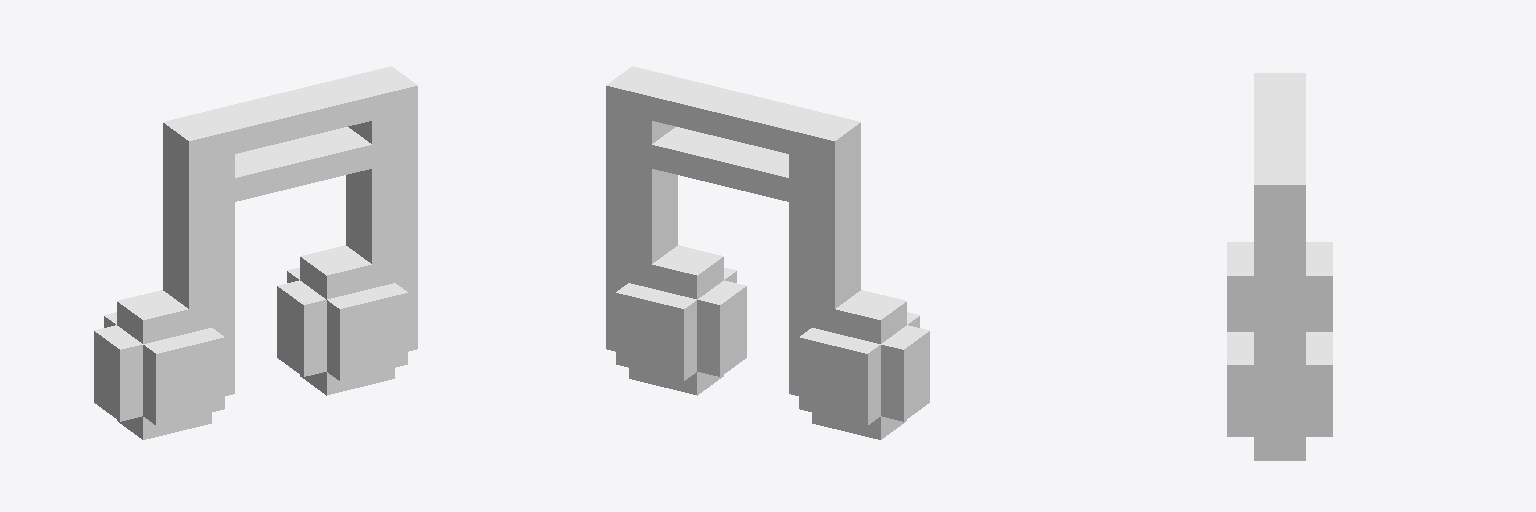
The model's file is MusicNoteDouble.obj.
3 renders of one model, left to right at view 1: azimuth 30°, elevation 25°; view 2: azimuth 150°, elevation 25°; view 3: azimuth 270°, elevation 25°, orthographic.
Visible parts, largest first — view 1: object 1; view 2: object 1; view 3: object 1.
Part boxes in pixels (x1,y1,x2,y2): object 1: (94,66,417,439); object 1: (606,66,929,439); object 1: (1227,73,1332,460).
Bounding box in the file's own units: 1.3 × 1.2 × 0.4.